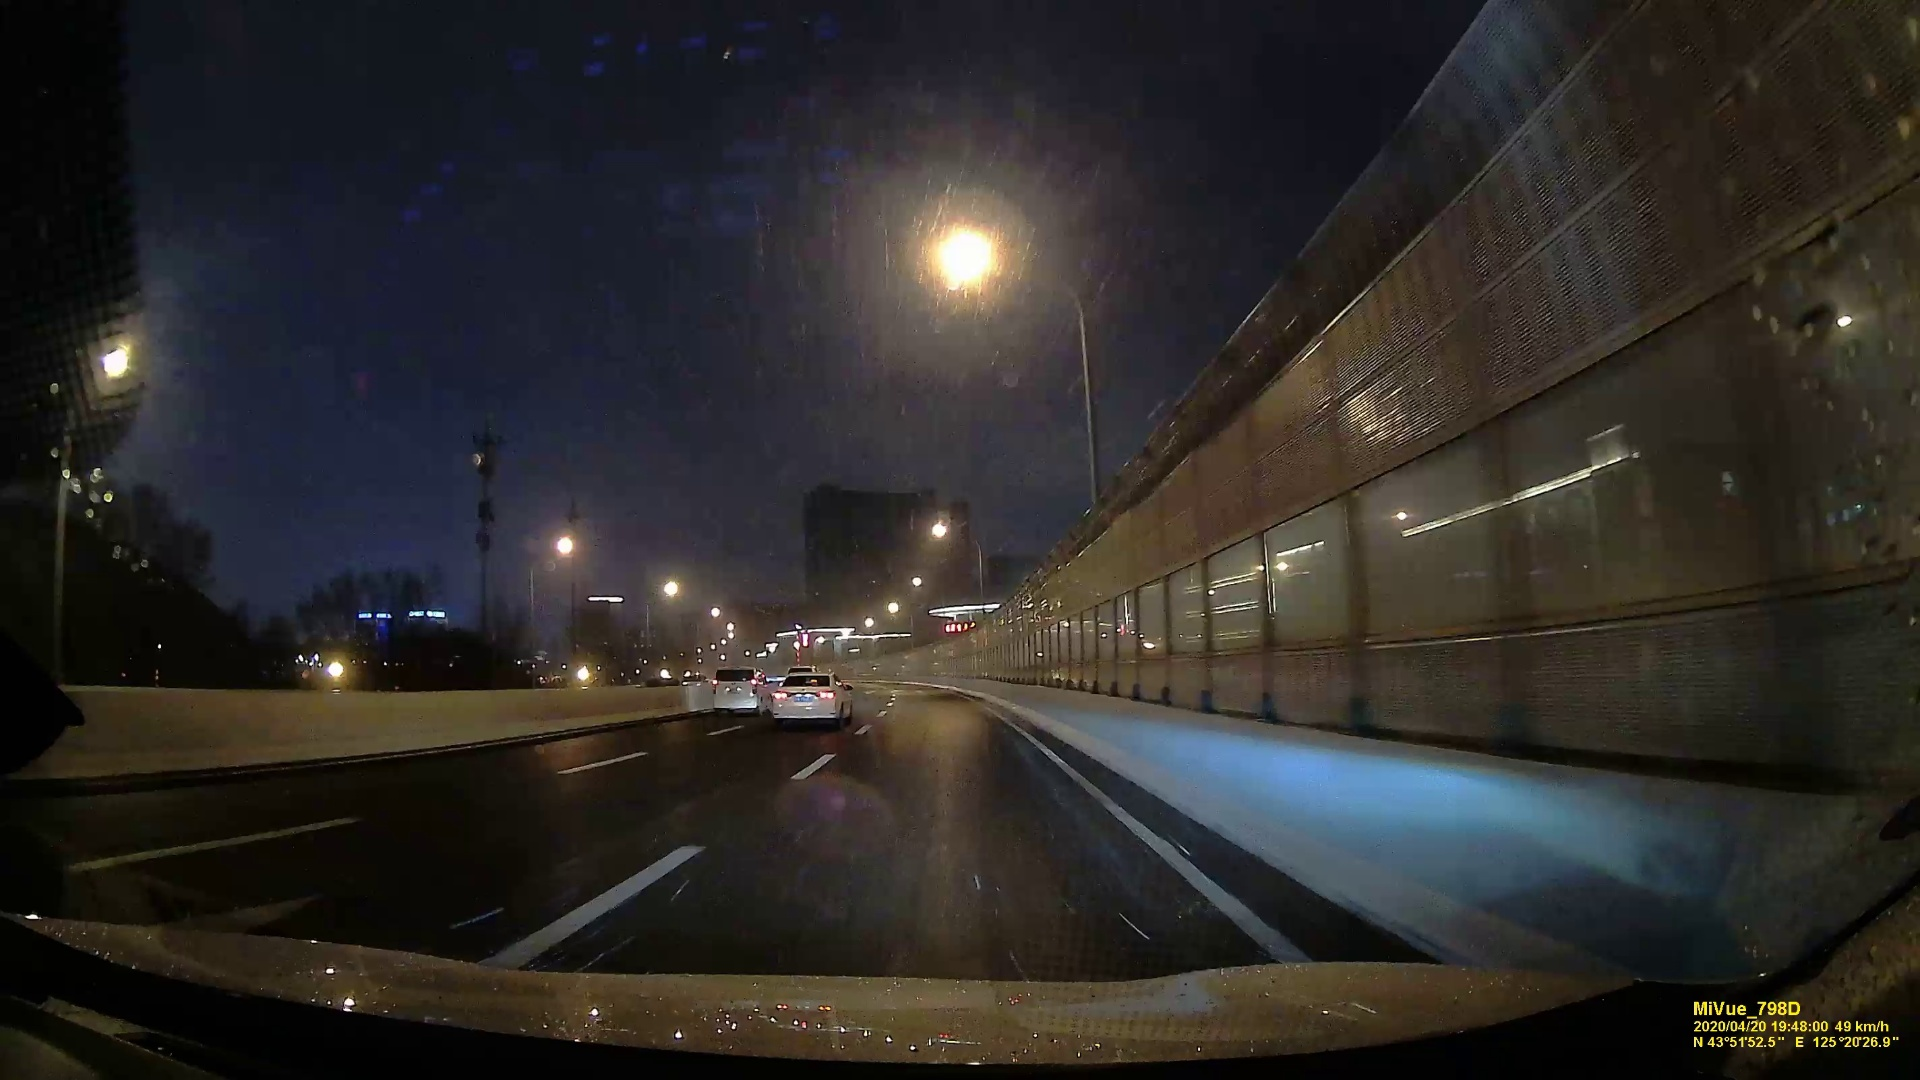minibus: (770, 674, 852, 723)
vehicle: (712, 667, 771, 716)
